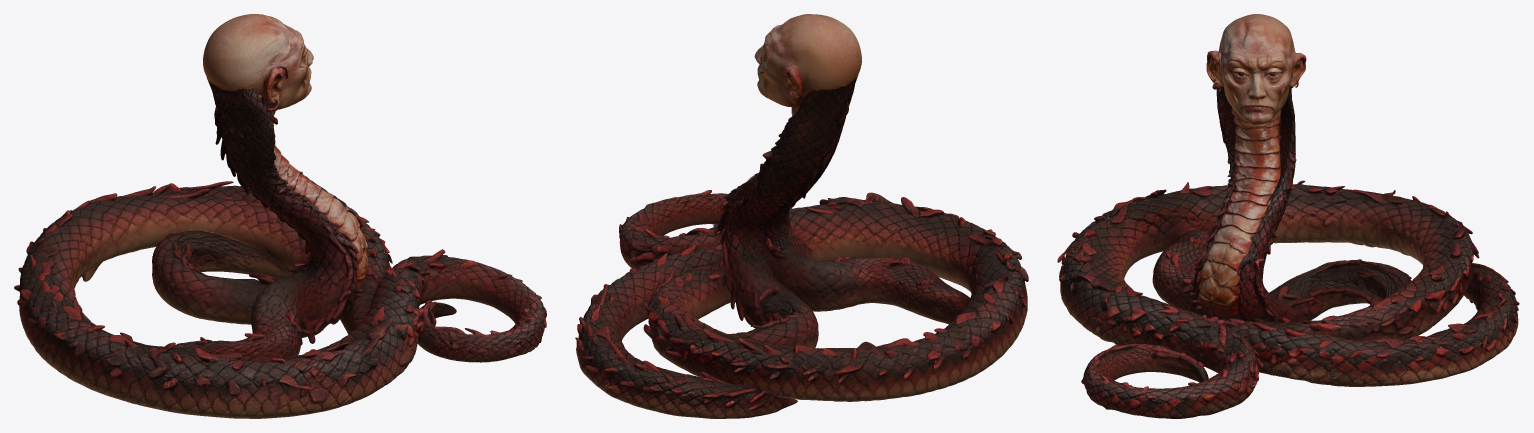
Rendered from zhulong.glb.
3 renders of one model, left to right at view 1: azimuth 30°, elevation 25°; view 2: azimuth 150°, elevation 25°; view 3: azimuth 270°, elevation 25°, orthographic. The views are drawn at different scales.
Parts seen in each view (by area): view 1: tripo_node_937dd7dc-a686-4b37-8ae9-bc982ed26f0d; view 2: tripo_node_937dd7dc-a686-4b37-8ae9-bc982ed26f0d; view 3: tripo_node_937dd7dc-a686-4b37-8ae9-bc982ed26f0d.
Boxes of the visible parts, x1,y1,x2,y2 form: tripo_node_937dd7dc-a686-4b37-8ae9-bc982ed26f0d: [14, 14, 546, 418]; tripo_node_937dd7dc-a686-4b37-8ae9-bc982ed26f0d: [575, 14, 1028, 418]; tripo_node_937dd7dc-a686-4b37-8ae9-bc982ed26f0d: [1057, 14, 1519, 418].
Bounding box in the file's own units: 0.9802 × 0.6968 × 0.9785.
Materials: 1 (1 with a texture image).
